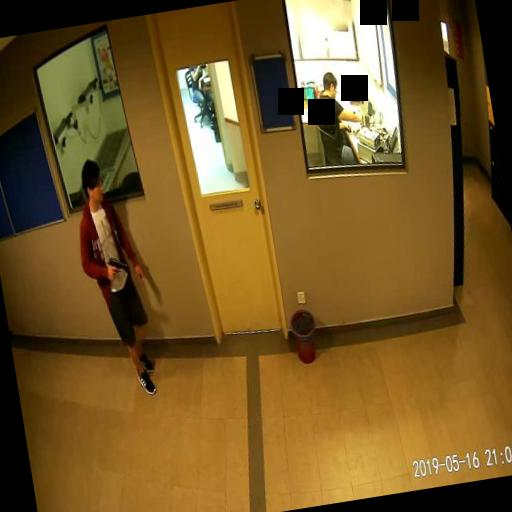Handgun: (106, 252, 128, 280)
